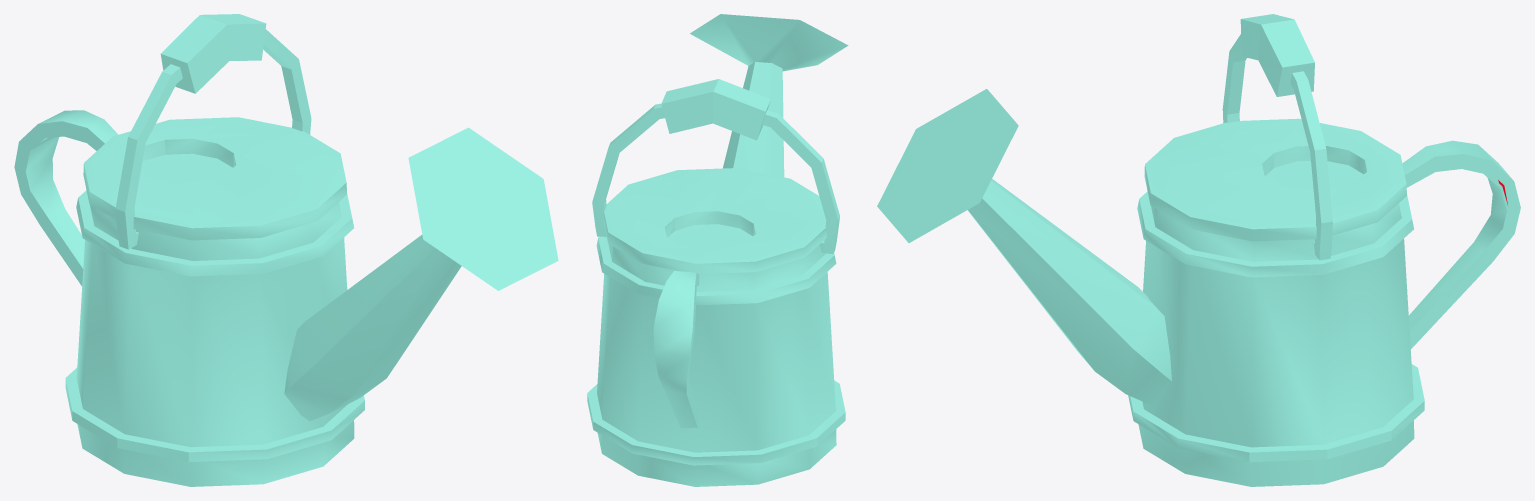
File: wateringCan-positioned.glb
3 renders of one model, left to right at view 1: azimuth 30°, elevation 25°; view 2: azimuth 150°, elevation 25°; view 3: azimuth 270°, elevation 25°, orthographic. The views are drawn at different scales.
Visible parts, largest first — view 1: wateringCan-toon; view 2: wateringCan-toon; view 3: wateringCan-toon.
Part boxes in pixels (left/top/right/bottom): wateringCan-toon: left=14, top=14, right=558, bottom=486; wateringCan-toon: left=587, top=14, right=848, bottom=486; wateringCan-toon: left=877, top=14, right=1520, bottom=486.
Size of what is drawn, in the model's own units: 0.447 by 0.5627 by 0.8088.
3 materials, 3 textured.
